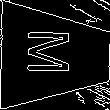M_E: (29, 32, 82, 80)
